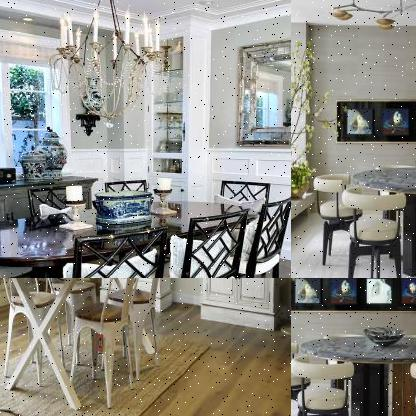table: (0, 278, 177, 416), (0, 194, 267, 277), (299, 331, 415, 415), (351, 162, 415, 277)
